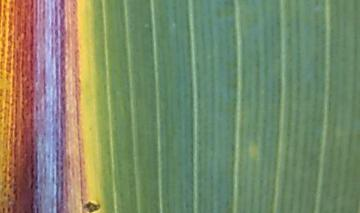tarspot: (83, 200, 101, 213)
